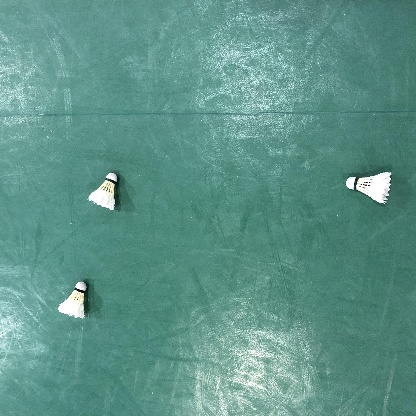ball_single: (346, 172, 391, 204), (87, 173, 117, 210), (58, 281, 87, 319)
